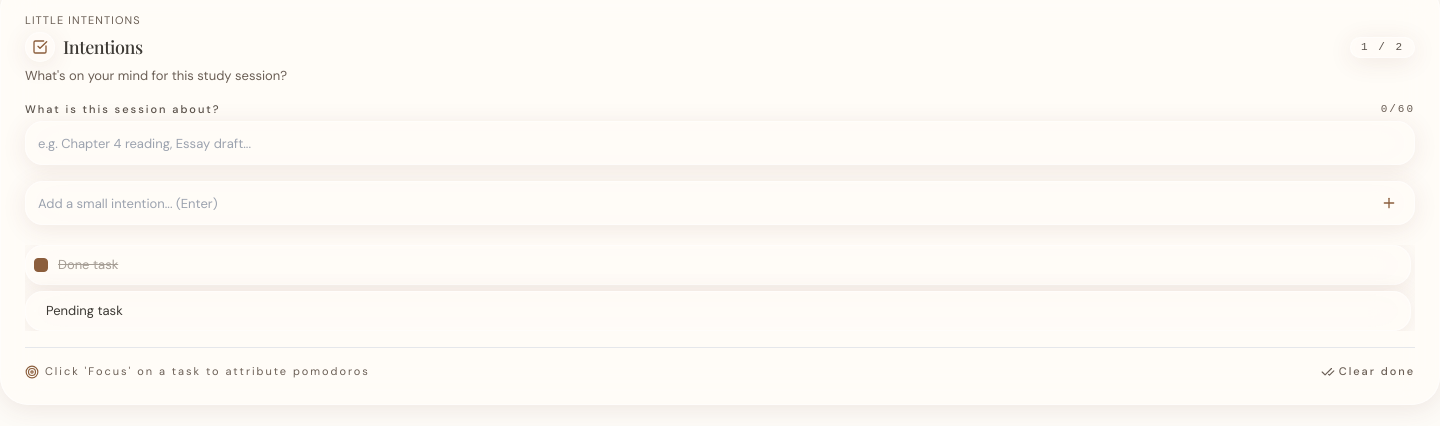
Test: IntentionsCard › allows clearing completed tasks
The width and height of the screenshot is (1440, 426).
Step 1. Click the button with aria-label "clear completed intentions" → x=1368, y=372, box [1321,364,1415,380]
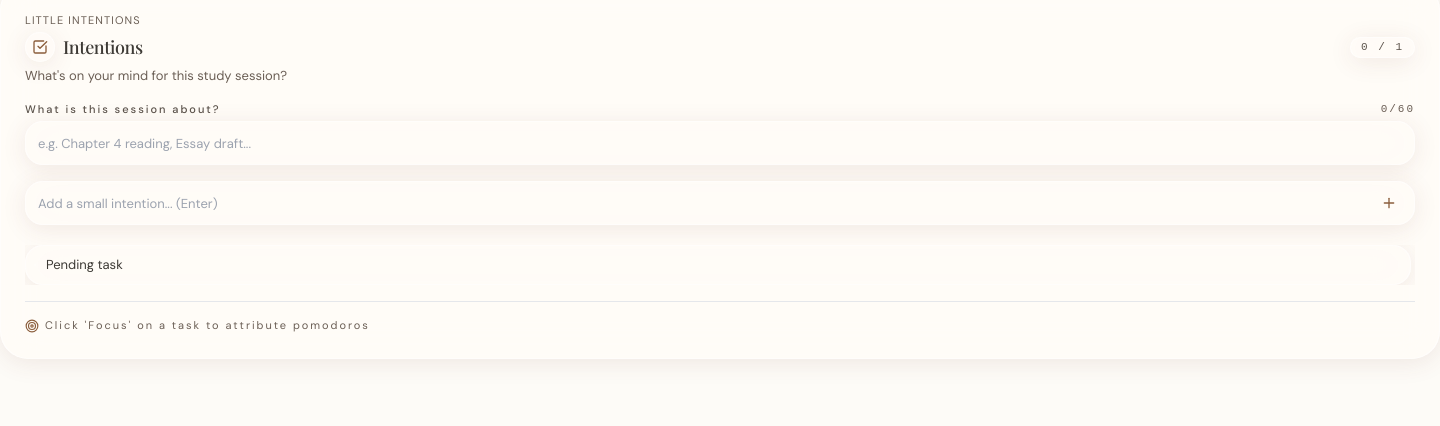
Expected: the text "Pending task" is shown, [46,257,123,274]
Now the text "Done task" is gone
